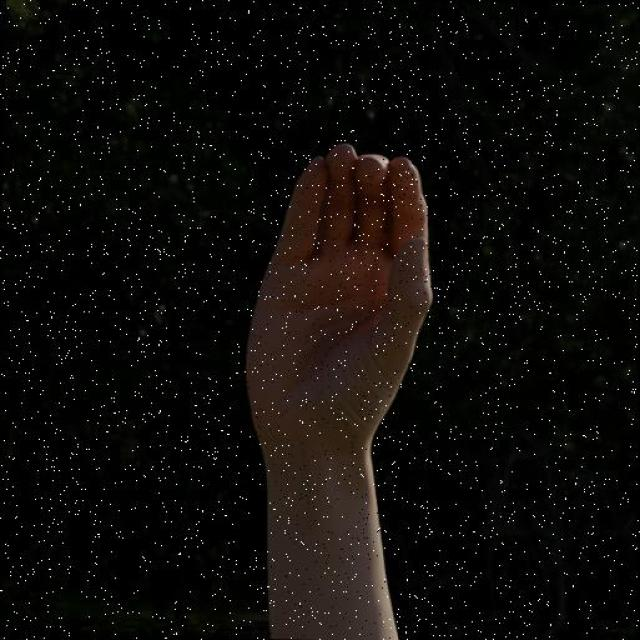C: (241, 139, 436, 453)
